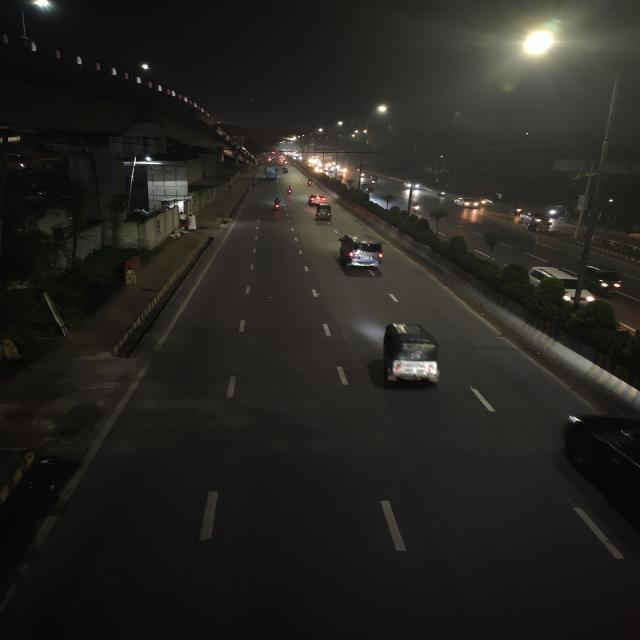bus: (262, 166, 278, 182)
car: (521, 265, 592, 310), (336, 230, 385, 274), (451, 195, 479, 210), (309, 194, 328, 206), (404, 179, 419, 190)
cng: (375, 317, 450, 393), (583, 261, 627, 294), (313, 205, 335, 222), (370, 175, 380, 183)
motorcycle: (508, 202, 524, 217), (272, 198, 284, 212), (412, 201, 422, 216), (436, 189, 448, 199), (286, 184, 295, 195), (307, 176, 315, 186)
